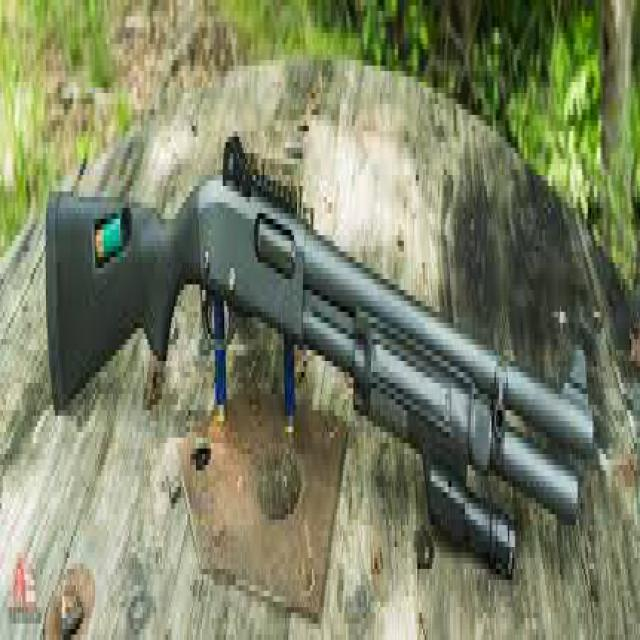long weapon: (43, 164, 603, 581)
